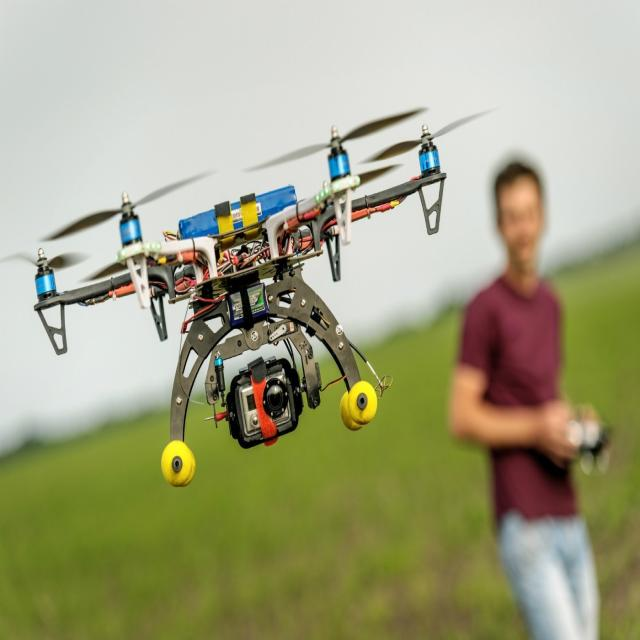drone: (18, 96, 521, 364)
